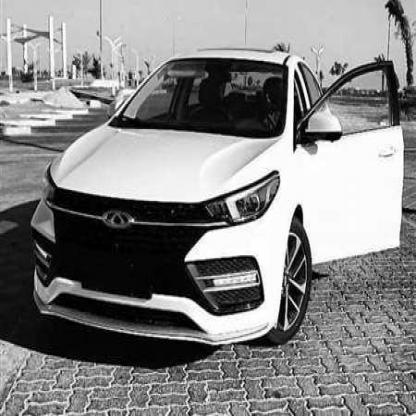Car: (41, 53, 332, 369)
